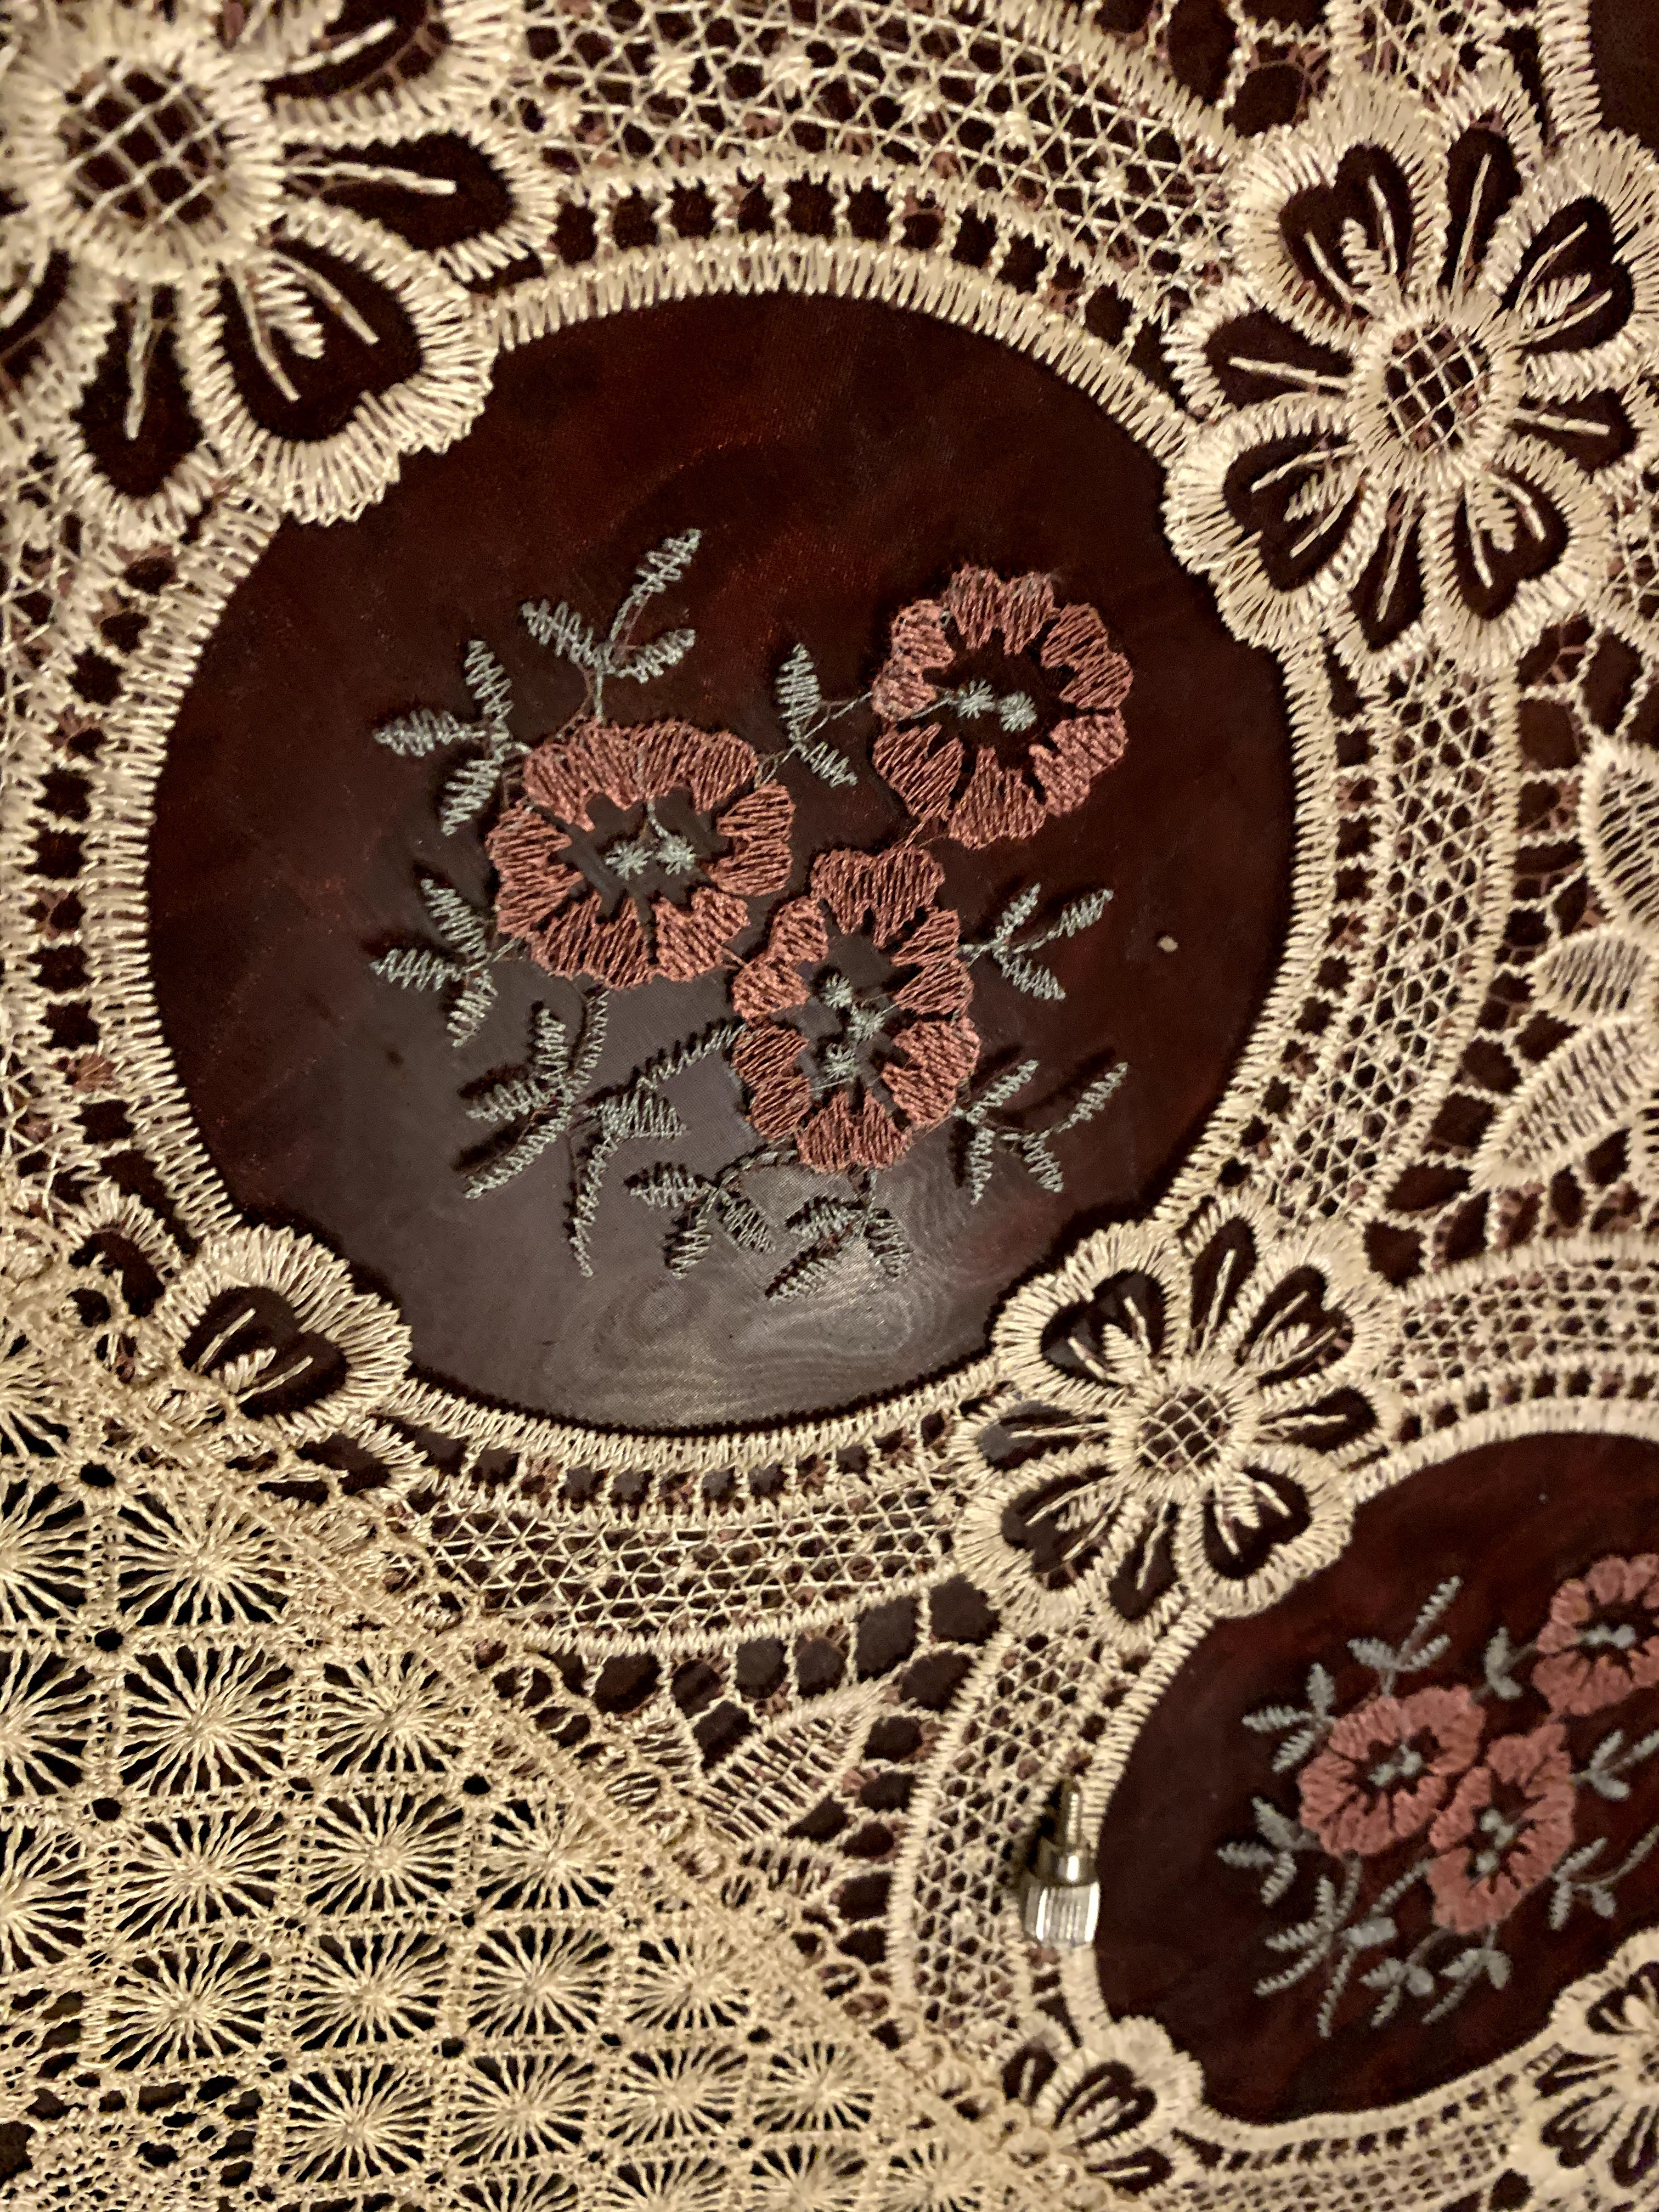Space-debris-small: (1016, 1766, 1112, 1979)
